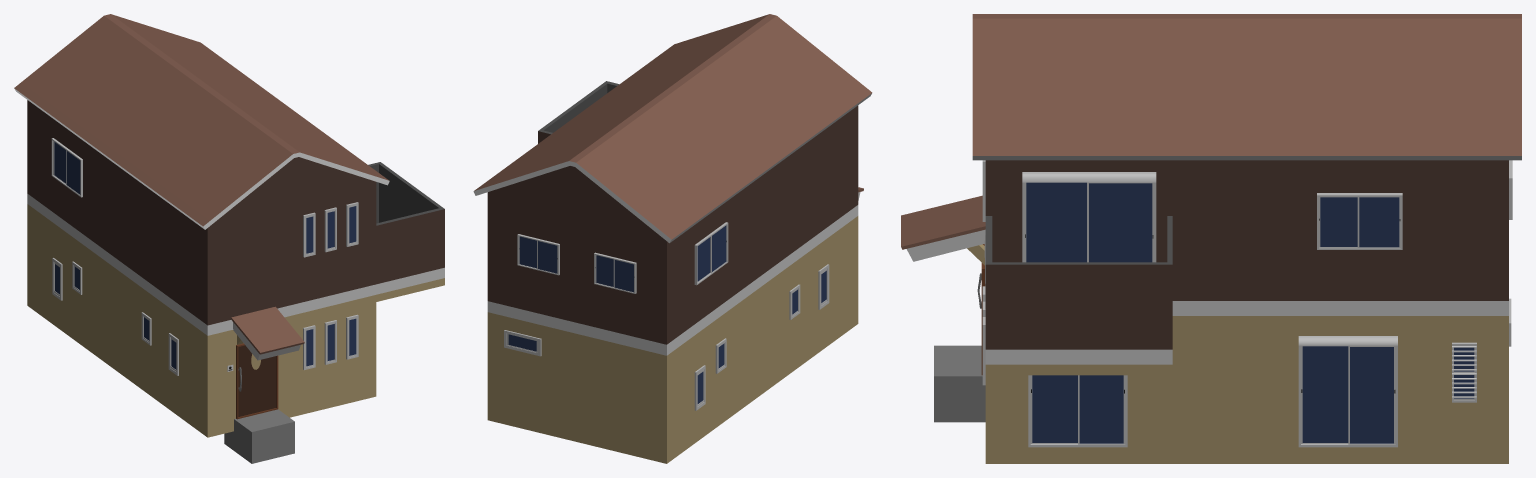
File: house14_middle.fbx
3 renders of one model, left to right at view 1: azimuth 30°, elevation 25°; view 2: azimuth 150°, elevation 25°; view 3: azimuth 270°, elevation 25°, orthographic. The views are drawn at different scales.
Visible parts, largest first — view 1: house014; view 2: house014; view 3: house014.
Boxes of the visible parts, <box> form: house014: <box>14,14,444,463</box>; house014: <box>473,14,872,463</box>; house014: <box>901,14,1521,463</box>.
Size of the model in its own units: 810 by 902 by 1218.
